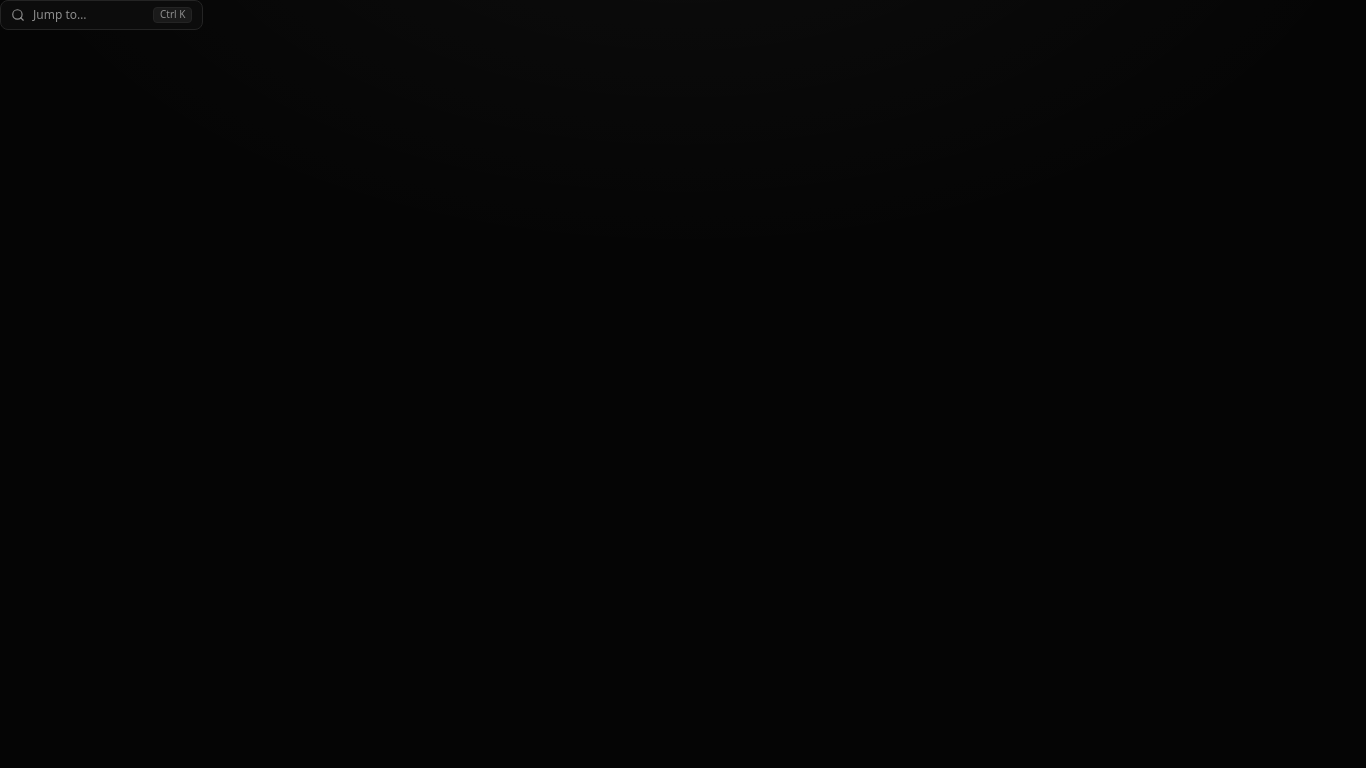
Test case: CommandPalette › opens with Ctrl+K and jumps to a page with Enter
The image size is (1366, 768).
Type keys "{Control>}k{/Control}"
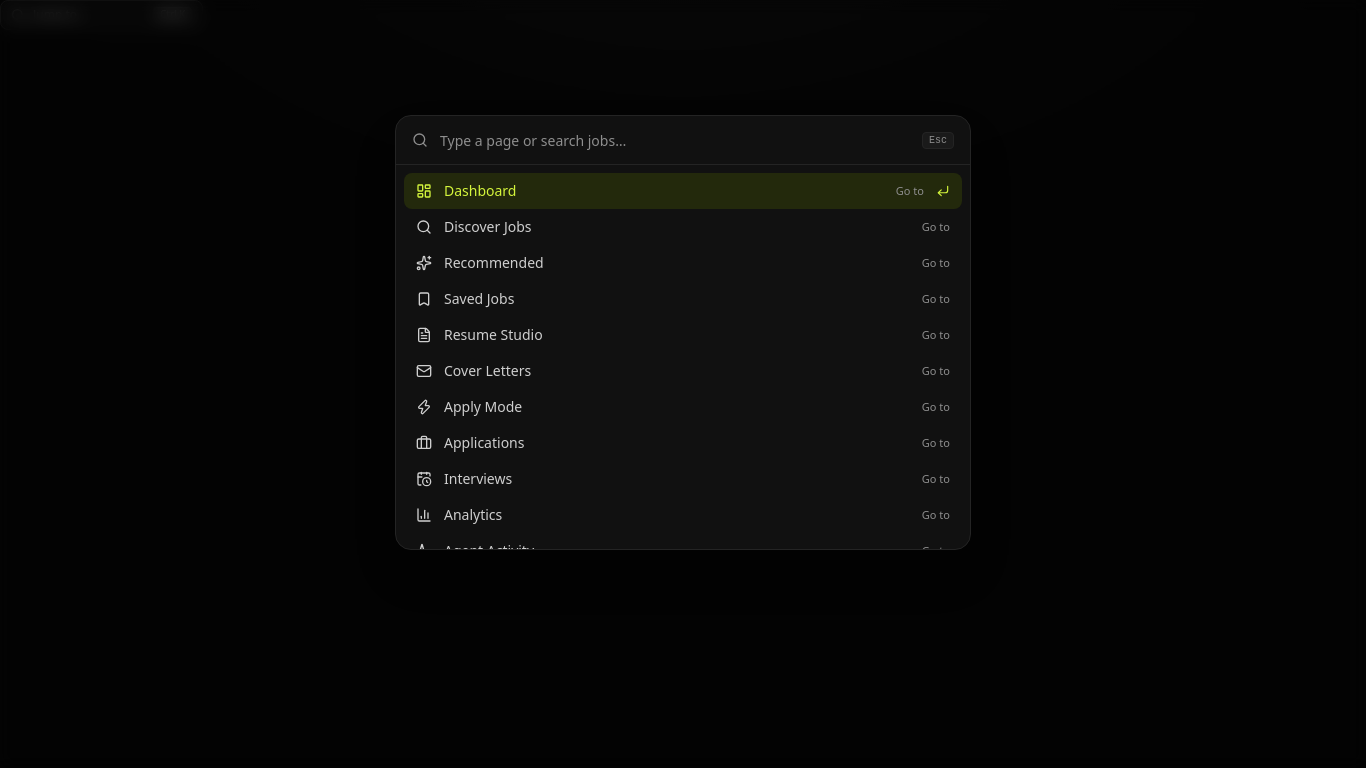
Type "applic" into the dropdown named "Command" at [675, 140], box 440,116 -> 910,164
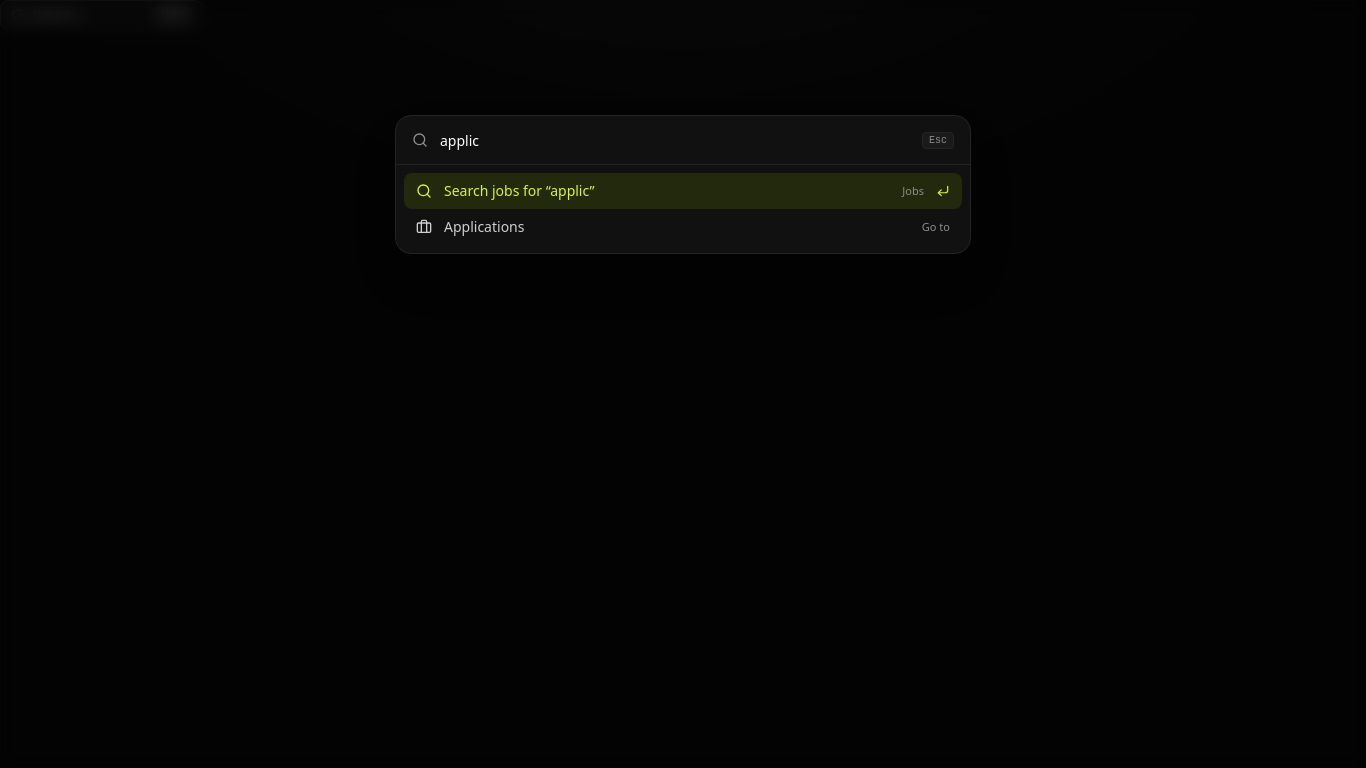
Now the option "Applications Go to" is shown, box 416,217 -> 950,236
Press Arrowdown Enter
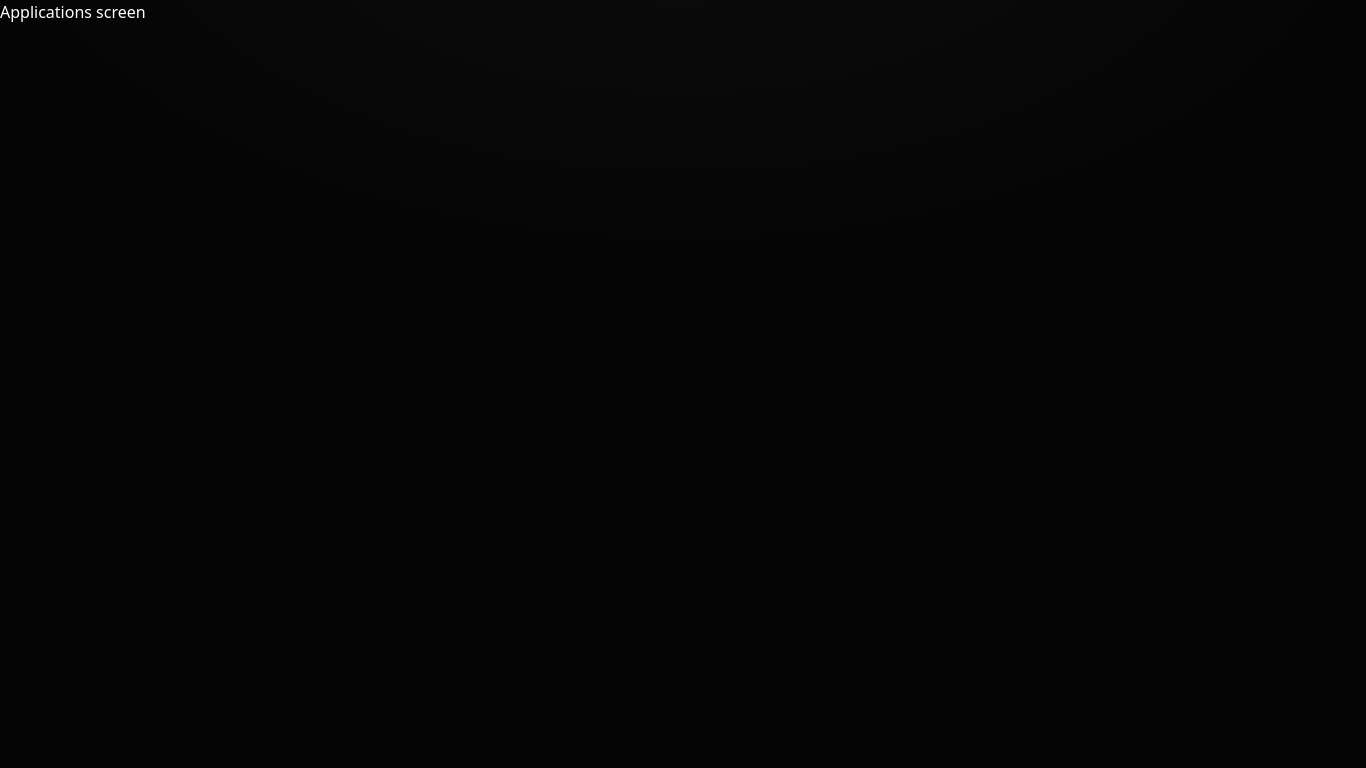
Now the text "Applications screen" is shown, box 0,1 -> 146,23
